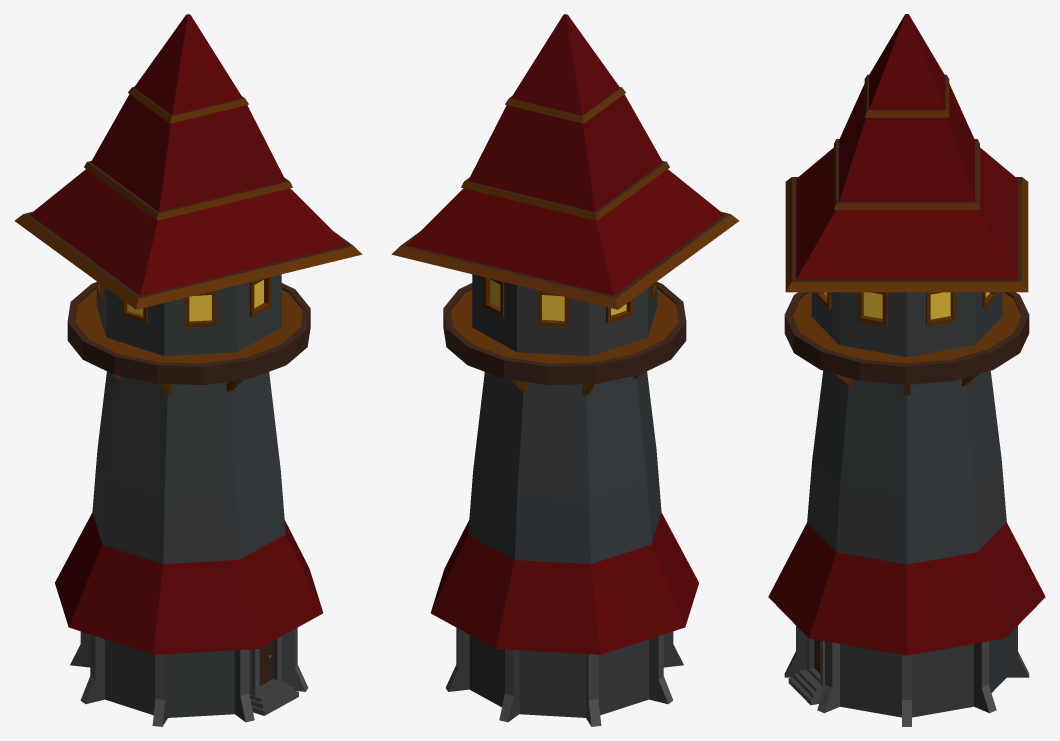
File: EnemyTower.fbx
The picture shows the model from 3 angles, left to right: view 1: azimuth 30°, elevation 25°; view 2: azimuth 150°, elevation 25°; view 3: azimuth 270°, elevation 25°; orthographic projection.
Parts seen in each view (by area): view 1: Tower; view 2: Tower; view 3: Tower.
Boxes of the visible parts, box(x1,y1,x2,y2) form: Tower: box(14, 14, 362, 726); Tower: box(391, 14, 739, 726); Tower: box(768, 14, 1045, 726).
Bounding box in the file's own units: 272 × 714 × 272.
Materials: 1 (1 with a texture image).
